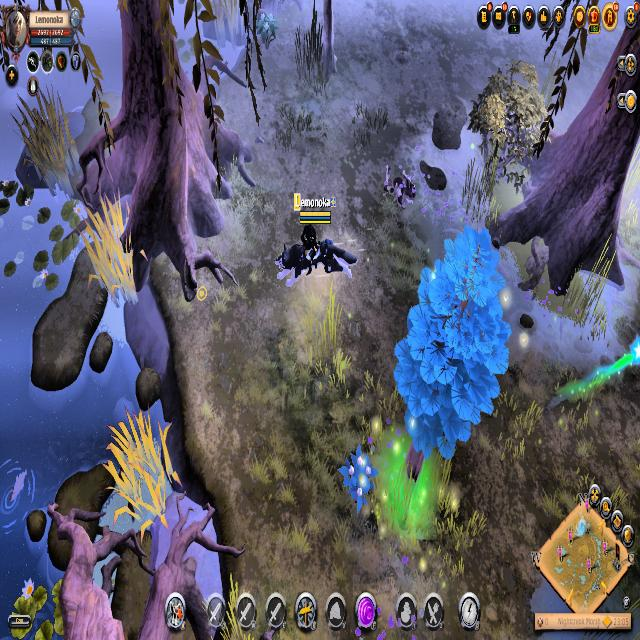fiber tier 3: (256, 9, 280, 50)
fiber tier 4: (337, 442, 380, 516)
fish: (0, 456, 42, 540)
wood tier 4: (393, 226, 512, 463)
